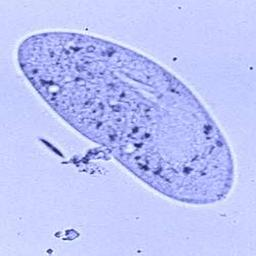Paramecium: (18, 32, 234, 203)
